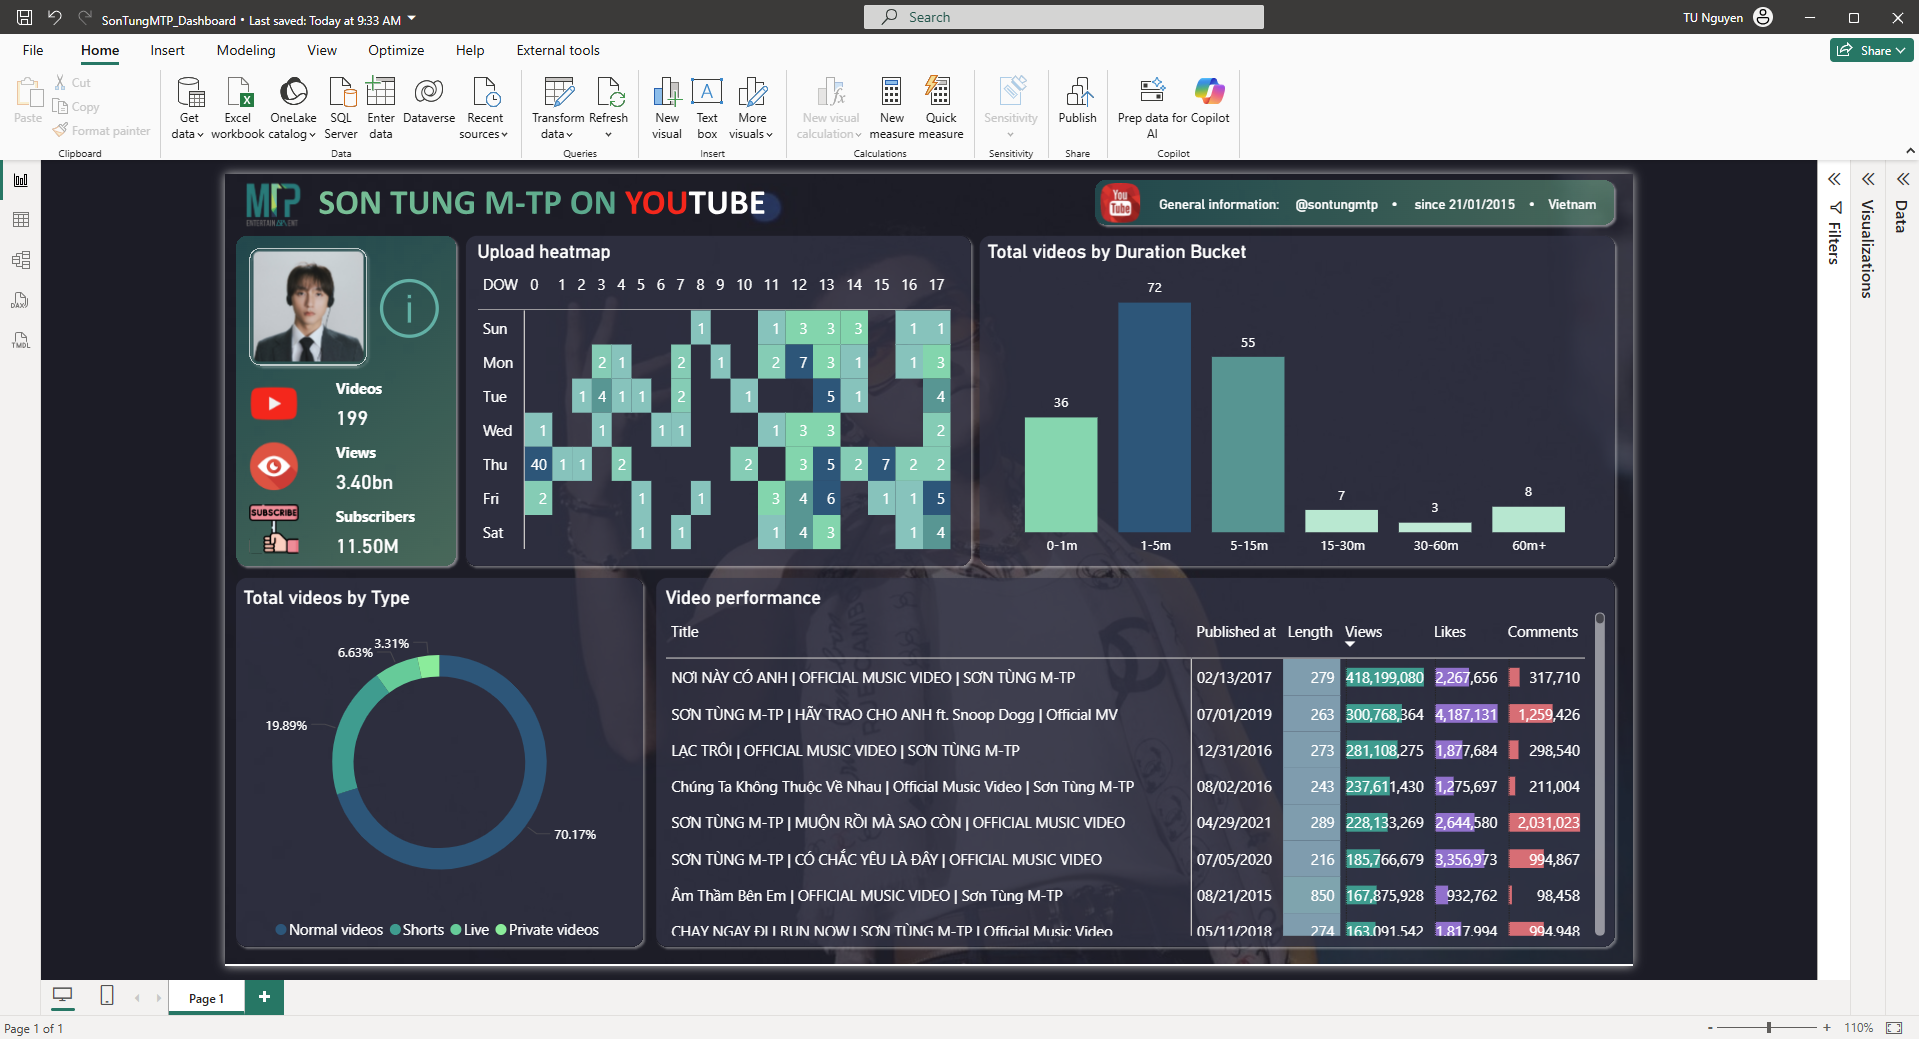

The dashboard page shown, as its layout file describes it:
{"tool":"powerbi","page":{"name":"Page 1","canvas":[1280,720],"ordinal":0},"visuals":[{"type":"htmlContent443BE3AD55E043BF878BED274D3A6855","fields":{"content":["_MEASURE.CHANNEL_HTML"]},"box":[20.8,65.4,110.8,112.3],"z":0},{"type":"card","fields":{"Values":["_MEASURE.Title Info"]},"box":[836.5,9.7,423.1,37.9],"z":1000},{"type":"pivotTable","title":"Upload heatmap","fields":{"Rows":["_SORT_PUBLISHED_DOW.PUBLISHED_DOW_NAME"],"Columns":["G_UPLOAD_HEATMAP.PUBLISHED_HOUR"],"Values":["Sum(G_UPLOAD_HEATMAP.VIDEOS_COUNT)"]},"box":[224.7,60.3,450.3,295.7],"z":2000},{"type":"cardVisual","fields":{"Data":["Sum(G_CHANNEL_OVERVIEW.CHANNEL_VIDEO_COUNT)","Sum(G_CHANNEL_OVERVIEW.CHANNEL_VIEW_COUNT)","Sum(G_CHANNEL_OVERVIEW.SUBSCRIBER_COUNT)"]},"box":[84,169.1,122.4,186.7],"z":3000},{"type":"donutChart","fields":{"Category":["G_CONTENT_MIX.VIDEO_TYPE"],"Y":["Sum(G_CONTENT_MIX.VIDEOS_COUNT)"]},"box":[11.4,374.5,366.2,330.9],"z":4000},{"type":"clusteredColumnChart","fields":{"Category":["_SORT_DURATION_BUCKET.DURATION_BUCKET"],"Y":["Sum(G_DURATION_DISTRIBUTION.VIDEOS_COUNT)"]},"box":[688.6,60.3,570.9,295.7],"z":5000},{"type":"pivotTable","title":"Video performance","fields":{"Rows":["G_VIDEO_RANKINGS.VIDEO_TITLE"],"Values":["Min(G_VIDEO_RANKINGS.PUBLISHED_DATE)","Sum(G_VIDEO_RANKINGS.DURATION_SECONDS)","Sum(G_VIDEO_RANKINGS.VIEW_COUNT)","Sum(G_VIDEO_RANKINGS.LIKE_COUNT)","Sum(G_VIDEO_RANKINGS.COMMENT_COUNT)"]},"box":[395.2,374.5,864.1,322.6],"z":6000},{"type":"actionButton","box":[134,88,70,68],"z":7000}]}

Visuals, with their boxes on the page's 1280x720 design canvas (x1, y1, x2, y2). These are canvas units, not pixel positions in the 1919x1039 screenshot, which may show the page scaled, cropped or inside an application window:
htmlContent443BE3AD55E043BF878BED274D3A6855 - _MEASURE.CHANNEL_HTML: box=[21, 65, 132, 178]
card - _MEASURE.Title Info: box=[836, 10, 1260, 48]
"Upload heatmap" pivotTable: box=[225, 60, 675, 356]
cardVisual - Sum(G_CHANNEL_OVERVIEW.CHANNEL_VIDEO_COUNT) x Sum(G_CHANNEL_OVERVIEW.CHANNEL_VIEW_COUNT): box=[84, 169, 206, 356]
donutChart - G_CONTENT_MIX.VIDEO_TYPE x Sum(G_CONTENT_MIX.VIDEOS_COUNT): box=[11, 374, 378, 705]
clusteredColumnChart - _SORT_DURATION_BUCKET.DURATION_BUCKET x Sum(G_DURATION_DISTRIBUTION.VIDEOS_COUNT): box=[689, 60, 1260, 356]
"Video performance" pivotTable: box=[395, 374, 1259, 697]
actionButton: box=[134, 88, 204, 156]
